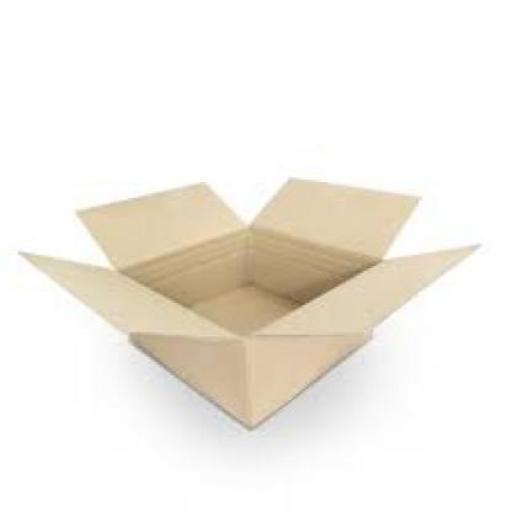cardboard: (18, 176, 480, 430)
